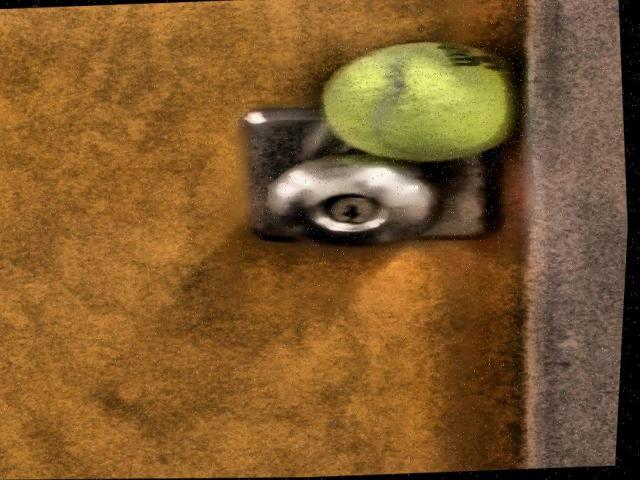tennis-ball: (322, 40, 520, 162)
